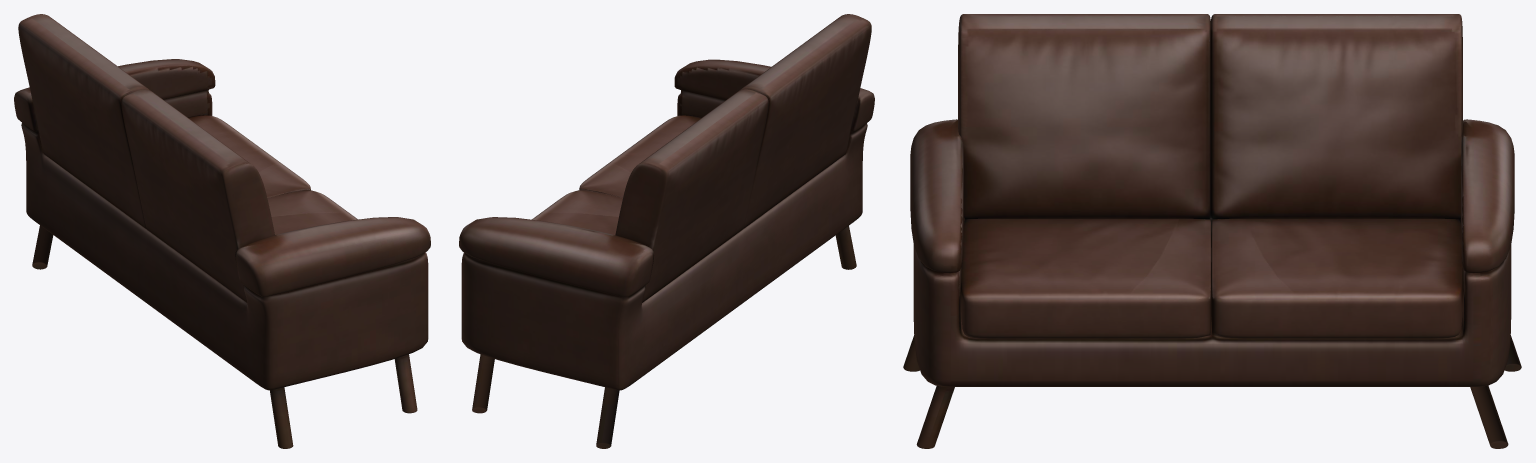
Rendered from sofa.glb.
The picture shows the model from 3 angles, left to right: view 1: azimuth 30°, elevation 25°; view 2: azimuth 150°, elevation 25°; view 3: azimuth 270°, elevation 25°; orthographic projection. The views are drawn at different scales.
Visible parts, largest first — view 1: 2 Person sofa, 2 Person sofa.001, 2 Person sofa.004, 2 Person sofa.003, 2 Person sofa.002; view 2: 2 Person sofa, 2 Person sofa.004, 2 Person sofa.001, 2 Person sofa.002, 2 Person sofa.003; view 3: 2 Person sofa, 2 Person sofa.004, 2 Person sofa.001, 2 Person sofa.003, 2 Person sofa.002.
Part boxes in pixels (x1=…): 2 Person sofa: x1=14, y1=59, x2=430, y2=448; 2 Person sofa.001: x1=121, y1=89, x2=274, y2=302; 2 Person sofa.004: x1=18, y1=14, x2=150, y2=228; 2 Person sofa.003: x1=188, y1=115, x2=310, y2=197; 2 Person sofa.002: x1=267, y1=190, x2=357, y2=234; 2 Person sofa: x1=459, y1=59, x2=874, y2=448; 2 Person sofa.004: x1=615, y1=89, x2=768, y2=302; 2 Person sofa.001: x1=739, y1=14, x2=871, y2=228; 2 Person sofa.002: x1=579, y1=115, x2=701, y2=197; 2 Person sofa.003: x1=532, y1=189, x2=622, y2=235; 2 Person sofa: x1=903, y1=119, x2=1521, y2=448; 2 Person sofa.004: x1=1210, y1=14, x2=1462, y2=219; 2 Person sofa.001: x1=958, y1=14, x2=1210, y2=219; 2 Person sofa.003: x1=1211, y1=218, x2=1462, y2=338; 2 Person sofa.002: x1=961, y1=218, x2=1211, y2=338.
Bounding box in the file's own units: 0.4552 × 0.5961 × 1.
Materials: 1 (1 with a texture image).
